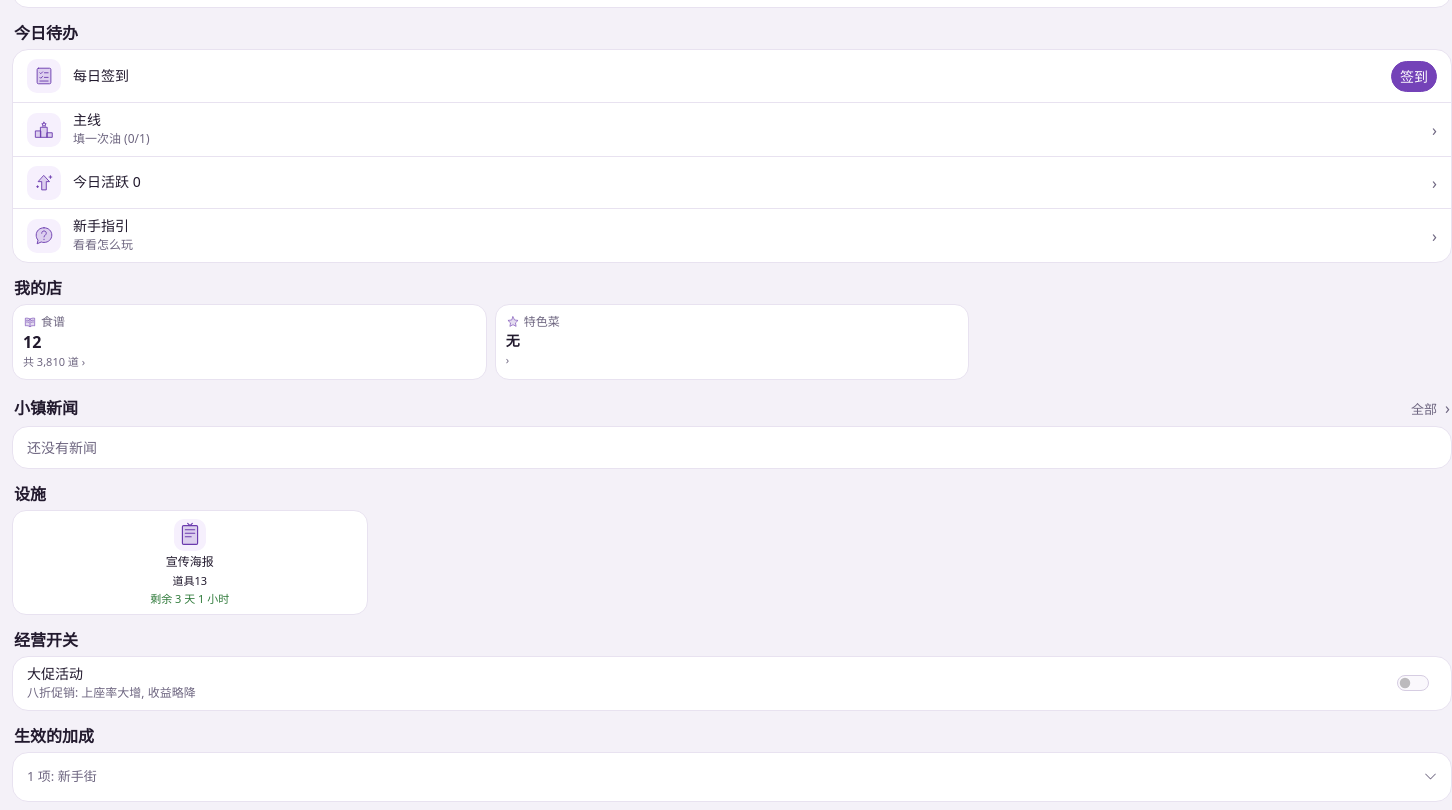
Test case: RestaurantHomeView › 摆了设施的格子：道具名一行、剩余时间单独一行不被截掉；点开换设施的面板先写现在摆的是什么（P5 返工）
The image size is (1452, 810).
(page scrolled)
Expected: the text with test id "fac-remain" shows "剩余 3 天", left=150, top=591, right=229, bottom=606
What coordinates should you click on to do the following:
click the button with test id "slot-1"
I would click on:
 (190, 562)
Its box is left=12, top=510, right=368, bottom=615.
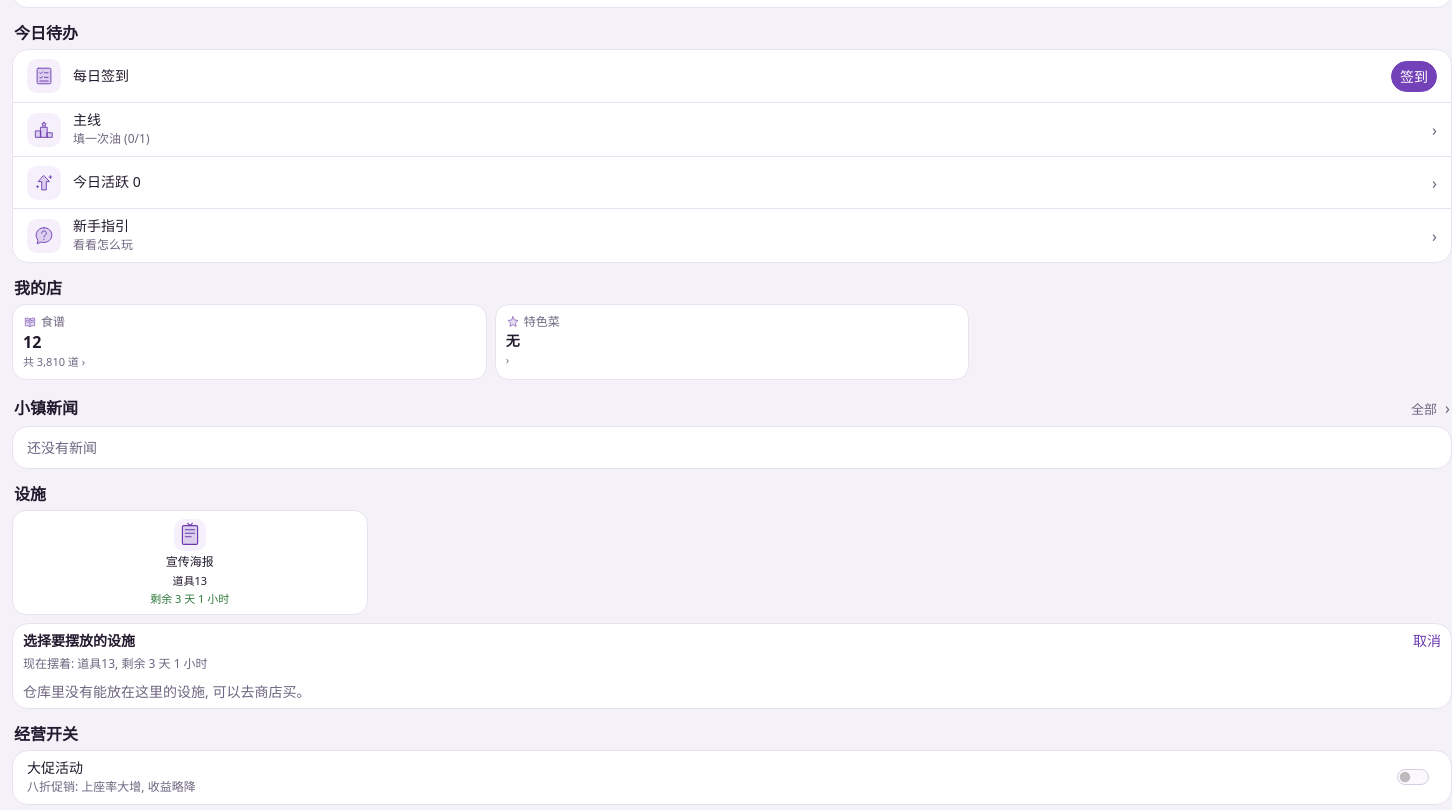
Result: the text with test id "pick-current" reads "现在摆着: 道具13, 剩余 3 天 1 小时" at left=23, top=655, right=208, bottom=672
